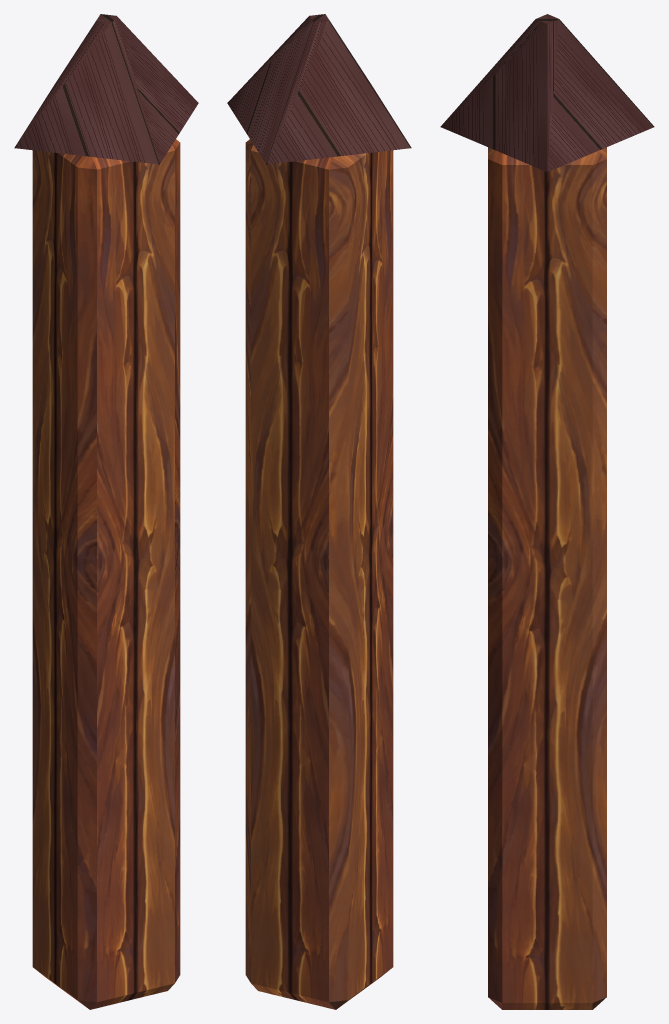
The model's file is Fence_Post.fbx.
3 views of the same model, side by side, from view 1: azimuth 30°, elevation 25°; view 2: azimuth 150°, elevation 25°; view 3: azimuth 270°, elevation 25° (orthographic).
Parts seen in each view (by area): view 1: Fence_Post.001; view 2: Fence_Post.001; view 3: Fence_Post.001.
Boxes of the visible parts, x1=… form: Fence_Post.001: x1=14, y1=14, x2=198, y2=1009; Fence_Post.001: x1=227, y1=14, x2=411, y2=1009; Fence_Post.001: x1=440, y1=14, x2=654, y2=1009.
Bounding box in the file's own units: 36 × 180 × 36.
Materials: 2 (2 with a texture image).
